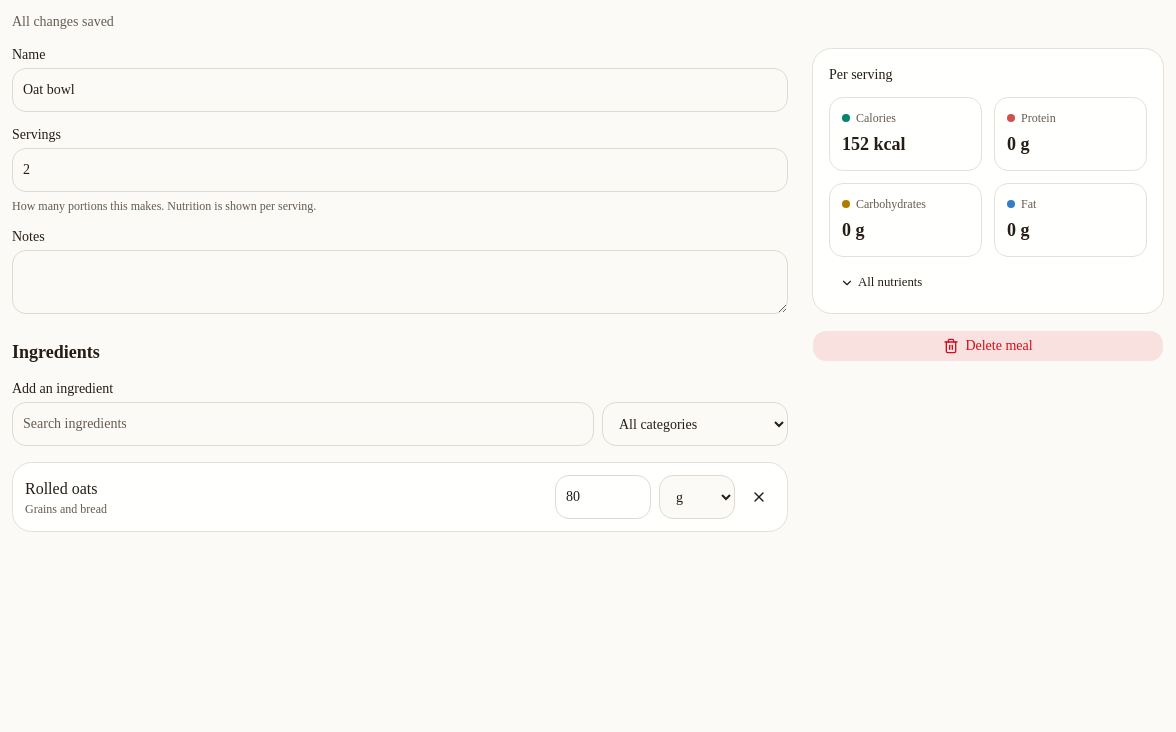
it: MealEditor › flags an amount or servings it cannot use, sends nothing, and keeps what was typed
Replace the text in the field named "Quantity of Rolled oats" with "abc" at (603, 497), box [555,475,651,519]
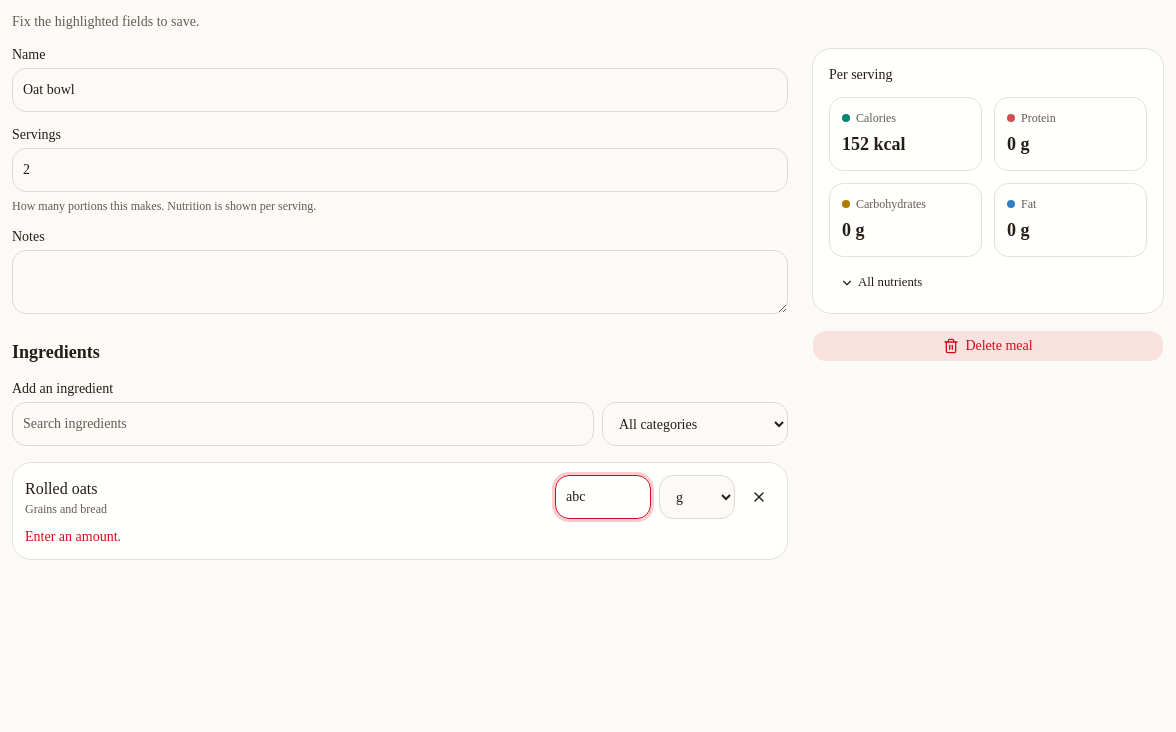
Replace the text in the field labelled "Servings" with "0" at (400, 170), box [12,148,788,192]
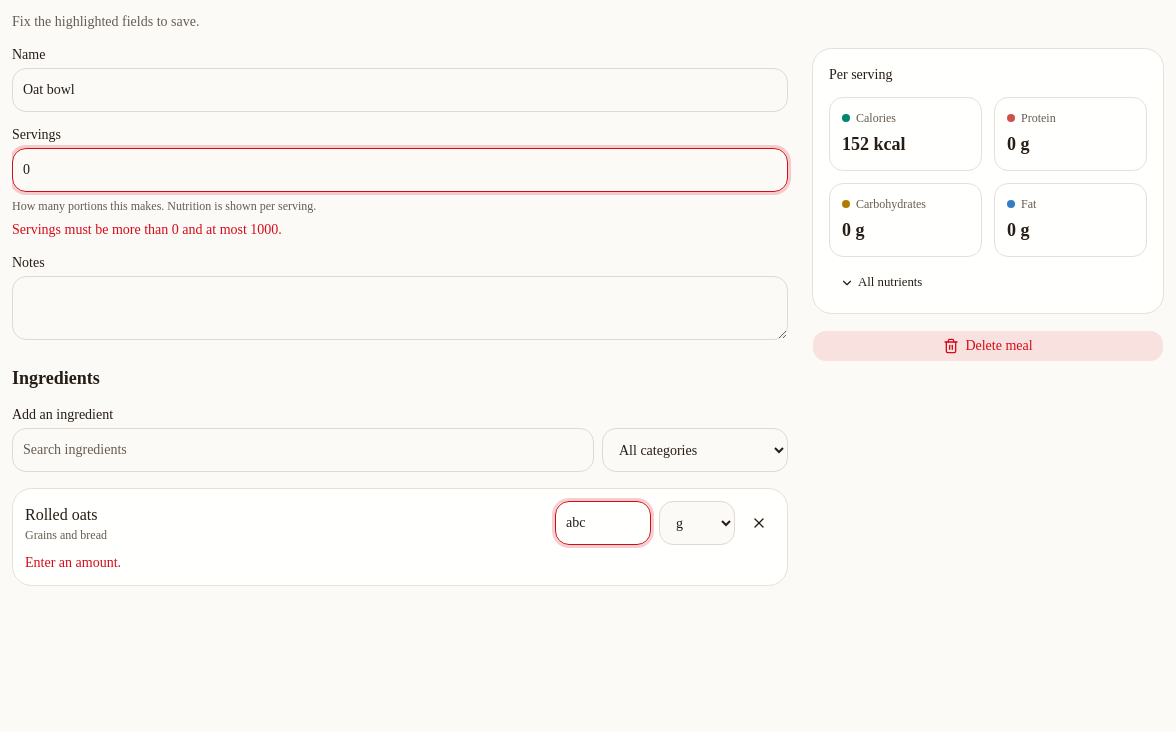
Now the text "Enter an amount." is shown, box [25,555,121,570]
Now the text "Fix the highlighted fields to save." is shown, box [12,12,199,32]
Now the text "Servings must be more than 0 and at most 1000." is shown, box [12,222,282,237]
